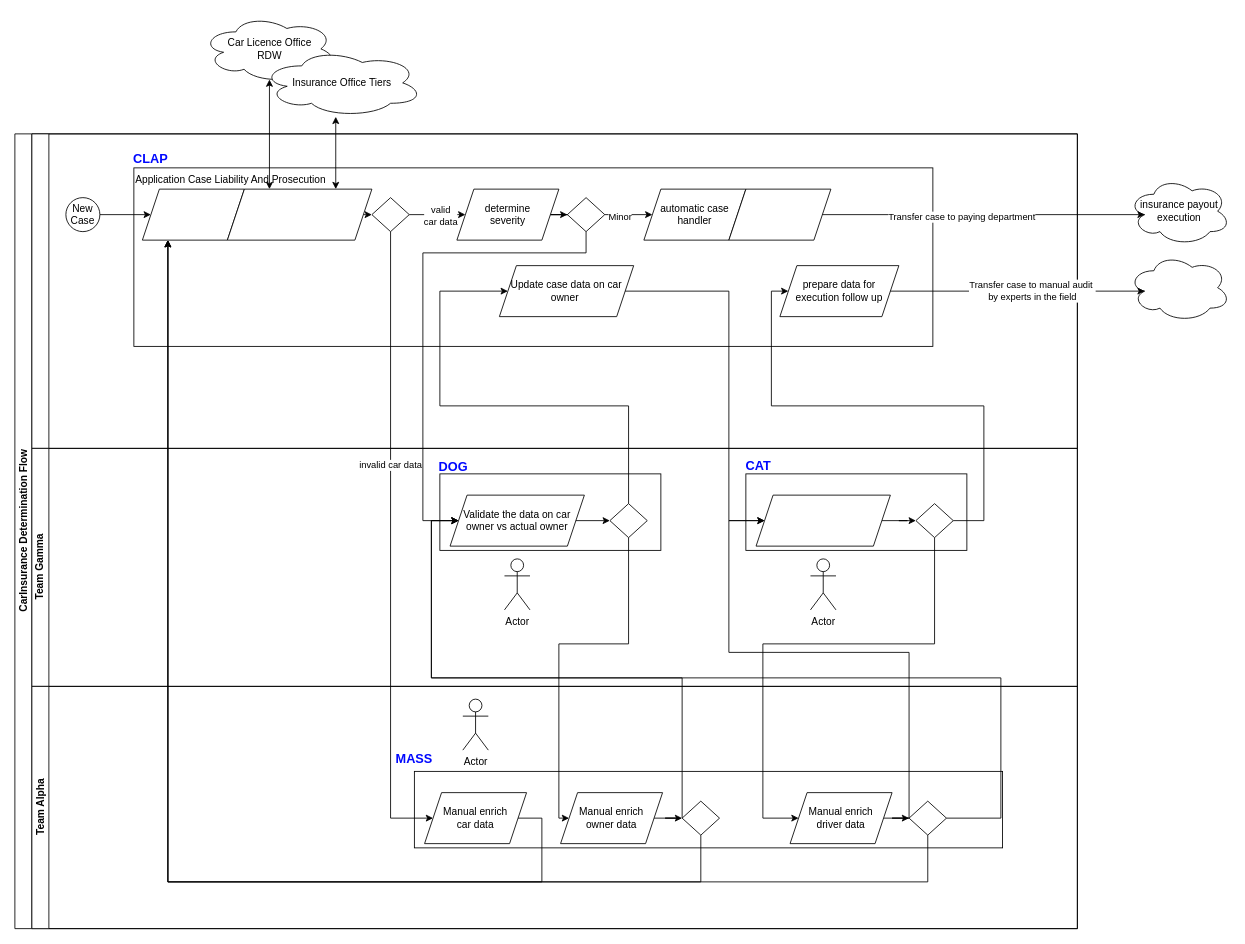
This 1245x944 diagram has some shape labels left out. Each missing label, with the box of its shape:
Application Check Actual Transgressor: (745, 473, 967, 550)
Application Determine Owner Good: (439, 473, 661, 550)
Case Administration Service System: (414, 771, 1003, 848)
insurance experts execution: (1128, 253, 1230, 322)
prepare data for execution of insurance: (728, 188, 831, 240)
Retrieve additional case data: (227, 188, 372, 240)
Team Pink: (31, 133, 1077, 448)
Validate input: (142, 188, 244, 240)
Validate the data on car driver: (755, 494, 890, 546)
